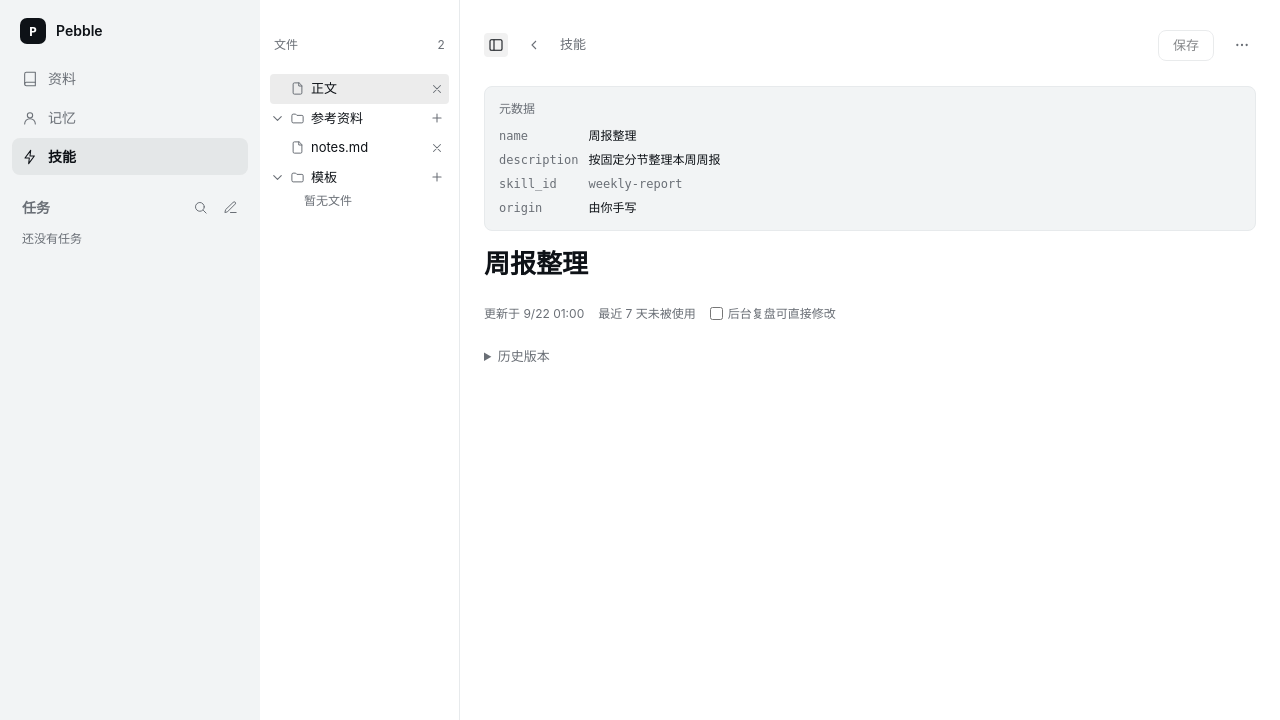
归档收在 ⋯ 菜单里，执行后顶栏说明它不再进对话
The image size is (1280, 720).
Step 1. Click the button named "更多操作" → click(1242, 45), box [1228,31,1256,59]
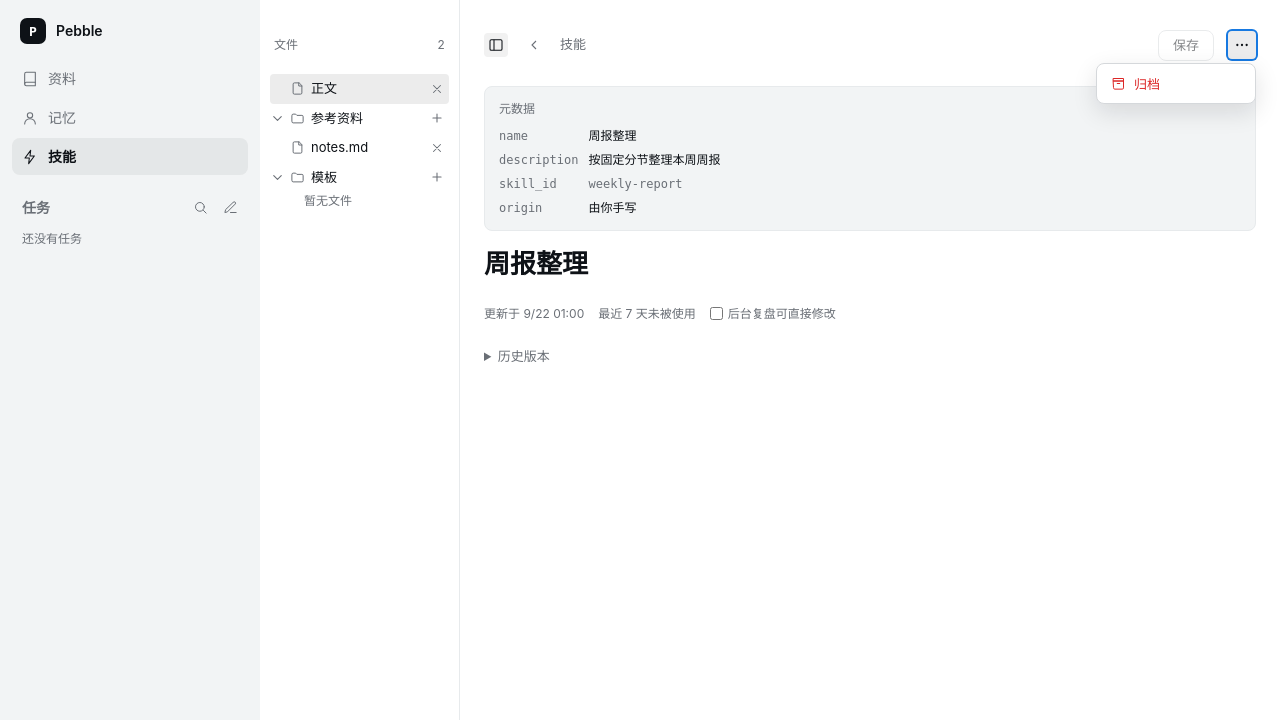
Step 2. Click the menu item "归档" → click(1176, 84), box [1101,68,1251,99]
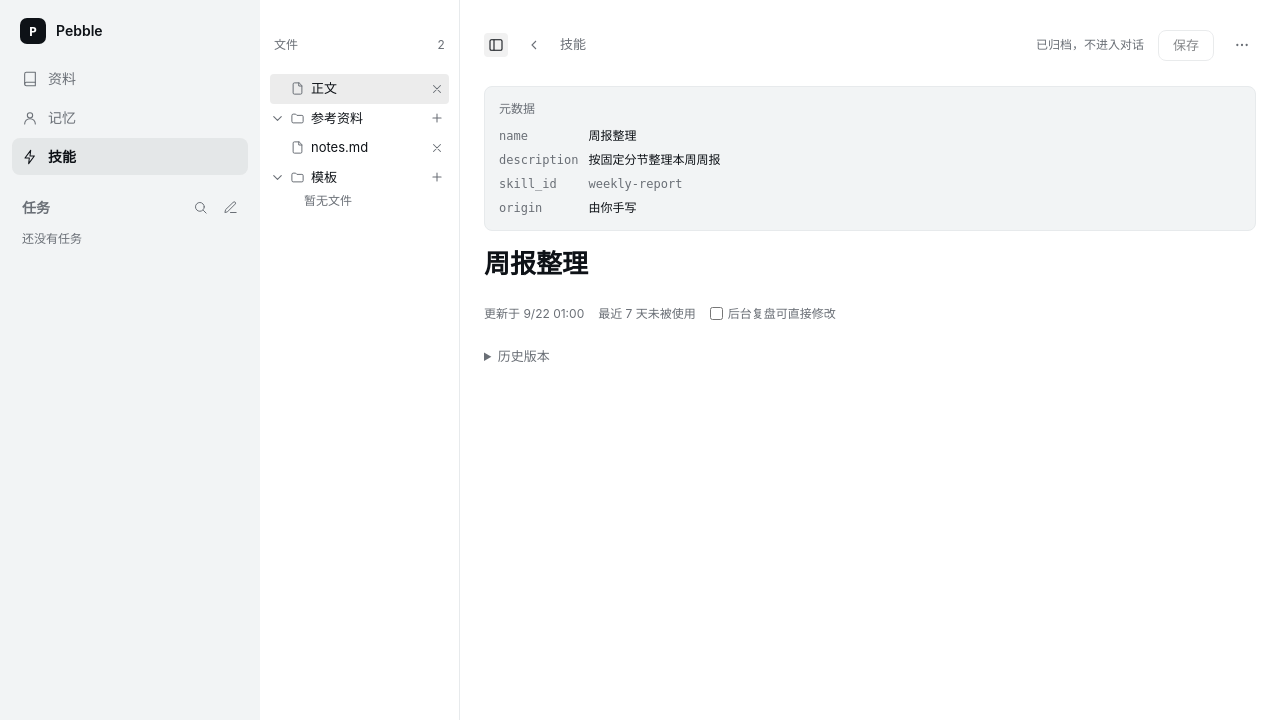
Expected: the checkbox labelled "后台复盘可直接修改" is shown, [710,307,723,320]
Result: the text "已归档，不进入对话" is shown at [1036,36,1144,54]
